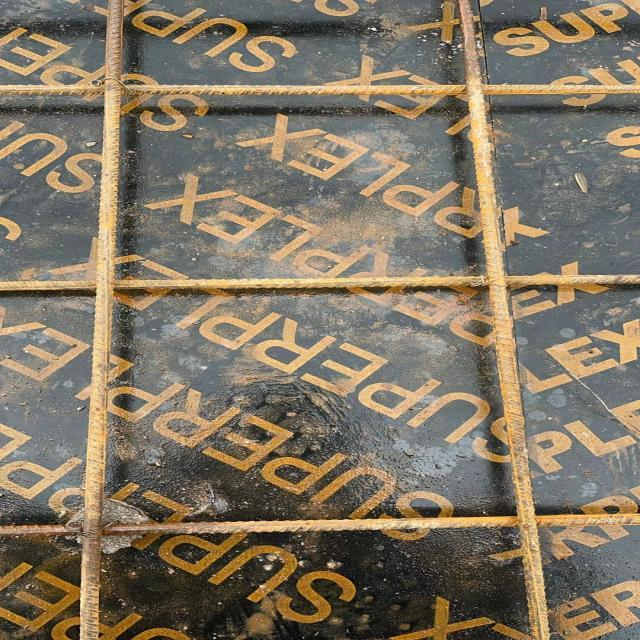ribbed bar: (457, 0, 551, 639), (76, 0, 124, 639), (0, 514, 639, 539), (0, 273, 639, 293), (0, 83, 639, 96)
